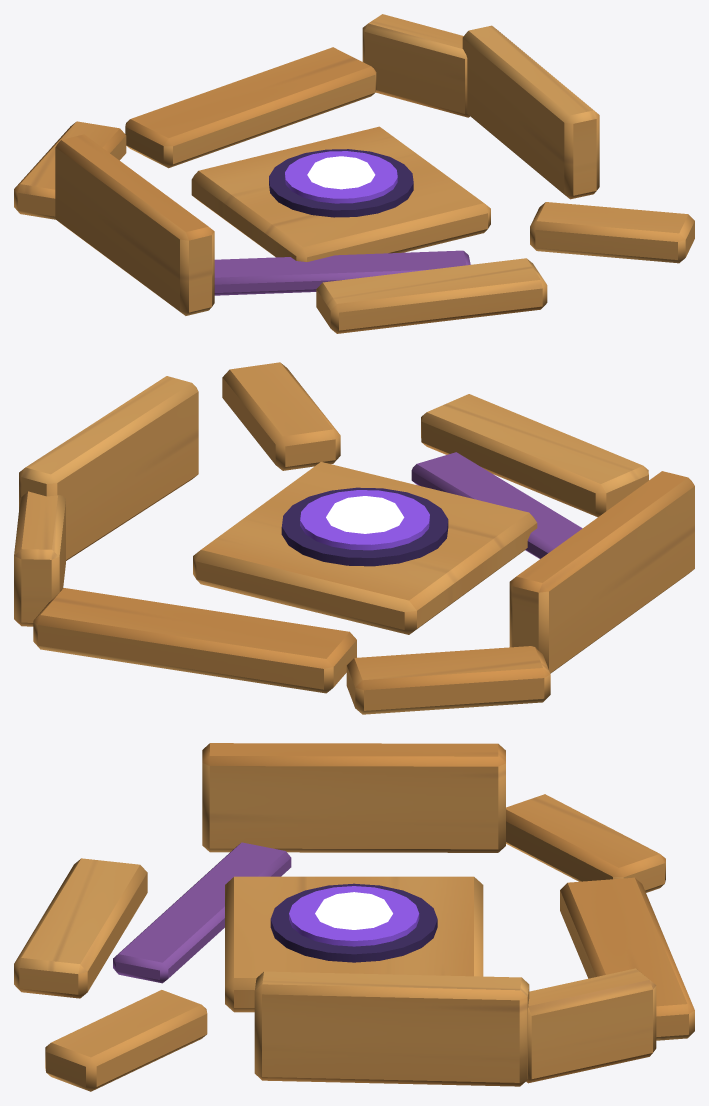
File: haki_cache_broken.glb
3 views of the same model, one above another, from view 1: azimuth 30°, elevation 25°; view 2: azimuth 150°, elevation 25°; view 3: azimuth 270°, elevation 25° (orthographic). The views are drawn at different scales.
Visible parts, largest first — view 1: haki_cache_broken; view 2: haki_cache_broken; view 3: haki_cache_broken.
Part boxes in pixels (x1=…): haki_cache_broken: x1=14, y1=14, x2=694, y2=333; haki_cache_broken: x1=14, y1=362, x2=694, y2=714; haki_cache_broken: x1=14, y1=743, x2=694, y2=1091.
Size of the model in its own units: 0.836 by 0.14 by 0.8968.
5 materials, 1 textured.
